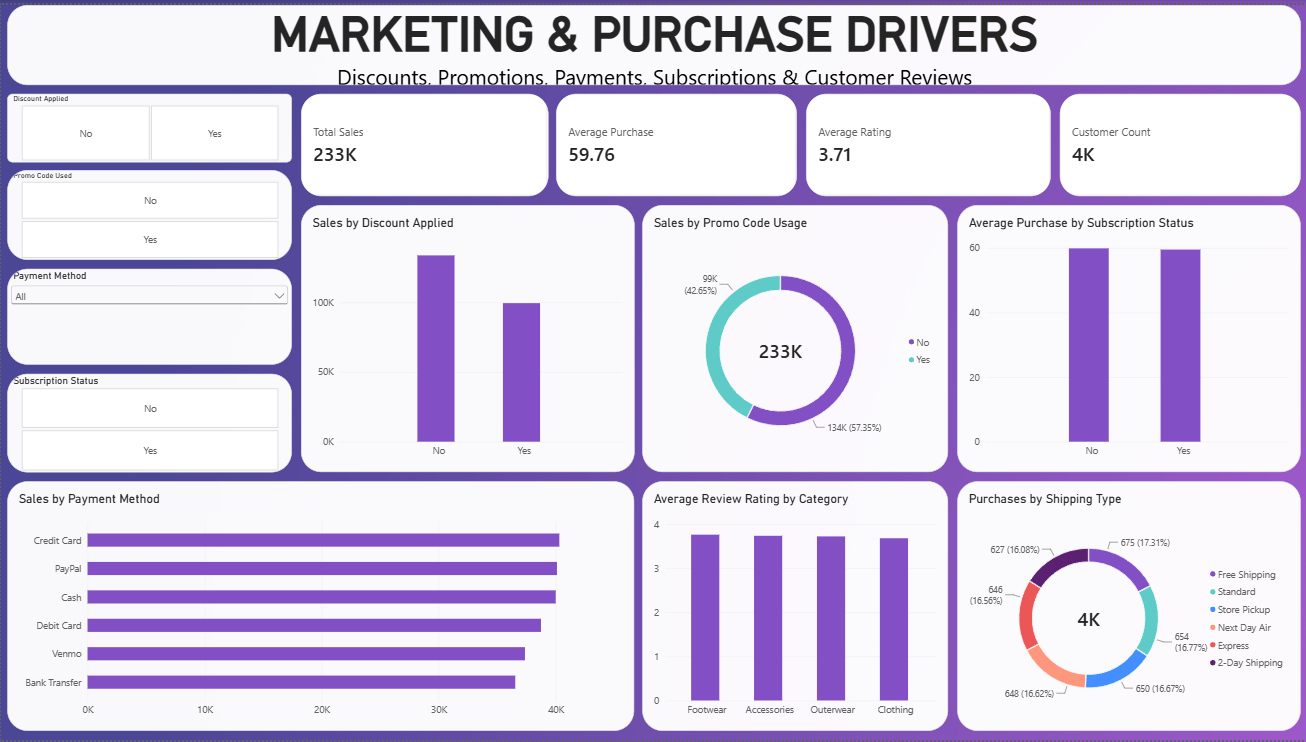

Layout of this report page (visuals, bound fields, positions):
{"tool":"powerbi","page":{"name":"Marketing & Purchase Drivers","canvas":[1920,1080],"ordinal":3},"visuals":[{"type":"textbox","title":"MARKETING & PURCHASE DRIVERS","box":[9.2,0,1898.4,117.3],"z":0},{"type":"slicer","fields":{"Values":["customer_shopping customer_shopping_data.Discount Applied"]},"box":[9.2,130.1,417.8,100.8],"z":1000},{"type":"slicer","fields":{"Values":["customer_shopping customer_shopping_data.Promo Code Used"]},"box":[9.2,241.9,417.8,131.9],"z":2000},{"type":"slicer","fields":{"Values":["customer_shopping customer_shopping_data.Payment Method"]},"box":[9.2,386.6,417.8,141.1],"z":3000},{"type":"slicer","fields":{"Values":["customer_shopping customer_shopping_data.Subscription Status"]},"box":[9.2,540.6,417.8,144.8],"z":4000},{"type":"cardVisual","fields":{"Data":["customer_shopping customer_shopping_data.Total Sales"]},"box":[439.8,130.1,362.8,150.3],"z":5000},{"type":"cardVisual","fields":{"Data":["customer_shopping customer_shopping_data.Average Purchase"]},"box":[813.6,130.1,353.7,150.3],"z":6000},{"type":"cardVisual","fields":{"Data":["customer_shopping customer_shopping_data.Average Rating"]},"box":[1181.9,130.1,359.2,150.3],"z":7000},{"type":"cardVisual","fields":{"Data":["customer_shopping customer_shopping_data.Customer Count"]},"box":[1553.9,130.1,353.7,150.3],"z":8000},{"type":"clusteredColumnChart","title":"Sales by Discount Applied","fields":{"Category":["customer_shopping customer_shopping_data.Discount Applied"],"Y":["customer_shopping customer_shopping_data.Total Sales"]},"box":[439.8,293.2,489.3,392.1],"z":9000},{"type":"donutChart","title":"Sales by Promo Code Usage","fields":{"Category":["customer_shopping customer_shopping_data.Promo Code Used"],"Y":["customer_shopping customer_shopping_data.Total Sales"]},"box":[941.9,293.2,448.9,392.1],"z":10000},{"type":"clusteredBarChart","title":"Sales by Payment Method","fields":{"Category":["customer_shopping customer_shopping_data.Payment Method"],"Y":["customer_shopping customer_shopping_data.Total Sales"]},"box":[9.2,698.2,919.9,366.5],"z":11000},{"type":"clusteredColumnChart","title":"Average Purchase by Subscription Status","fields":{"Category":["customer_shopping customer_shopping_data.Subscription Status"],"Y":["customer_shopping customer_shopping_data.Average Purchase"]},"box":[1403.6,293.2,503.9,392.1],"z":11001},{"type":"clusteredColumnChart","title":"Average Review Rating by Category","fields":{"Category":["customer_shopping customer_shopping_data.Category"],"Y":["customer_shopping customer_shopping_data.Average Rating"]},"box":[941.9,698.2,448.9,366.5],"z":11002},{"type":"donutChart","title":"Purchases by Shipping Type","fields":{"Category":["customer_shopping customer_shopping_data.Shipping Type"],"Y":["customer_shopping customer_shopping_data.Total Purchases"]},"box":[1403.6,698.2,503.9,366.5],"z":11003}]}

Visuals, with their boxes in screenshot pixels (x1, y1, x2, y2), scaled from the page's 1920x1080 canvas onto the 1306x742 screenshot:
"MARKETING & PURCHASE DRIVERS" textbox: detection(6, 0, 1298, 81)
slicer - customer_shopping customer_shopping_data.Discount Applied: detection(6, 89, 290, 159)
slicer - customer_shopping customer_shopping_data.Promo Code Used: detection(6, 166, 290, 257)
slicer - customer_shopping customer_shopping_data.Payment Method: detection(6, 266, 290, 363)
slicer - customer_shopping customer_shopping_data.Subscription Status: detection(6, 371, 290, 471)
cardVisual - customer_shopping customer_shopping_data.Total Sales: detection(299, 89, 546, 193)
cardVisual - customer_shopping customer_shopping_data.Average Purchase: detection(553, 89, 794, 193)
cardVisual - customer_shopping customer_shopping_data.Average Rating: detection(804, 89, 1048, 193)
cardVisual - customer_shopping customer_shopping_data.Customer Count: detection(1057, 89, 1298, 193)
"Sales by Discount Applied" clusteredColumnChart: detection(299, 201, 632, 471)
"Sales by Promo Code Usage" donutChart: detection(641, 201, 946, 471)
"Sales by Payment Method" clusteredBarChart: detection(6, 480, 632, 731)
"Average Purchase by Subscription Status" clusteredColumnChart: detection(955, 201, 1297, 471)
"Average Review Rating by Category" clusteredColumnChart: detection(641, 480, 946, 731)
"Purchases by Shipping Type" donutChart: detection(955, 480, 1297, 731)
